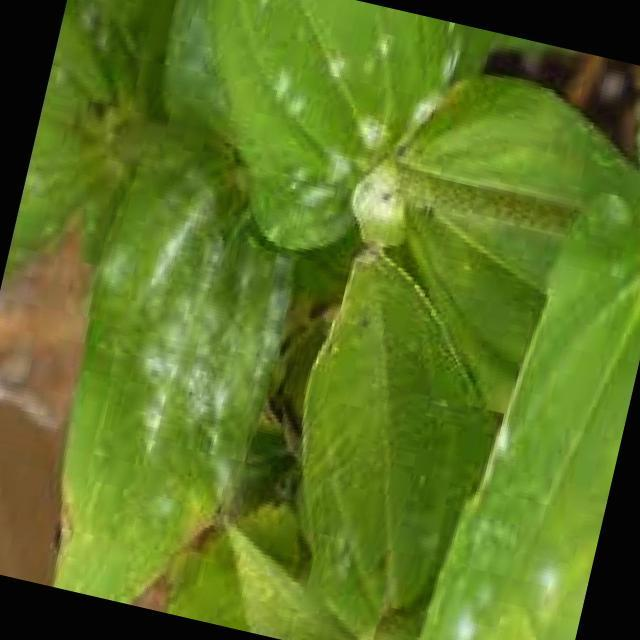Powdery_mildew_on_lettuce: (65, 148, 316, 522), (316, 34, 498, 277)
